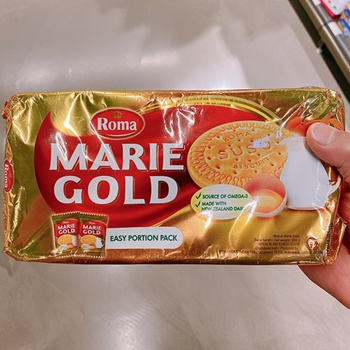Roma Marie Gold (240g): (2, 83, 340, 280)
